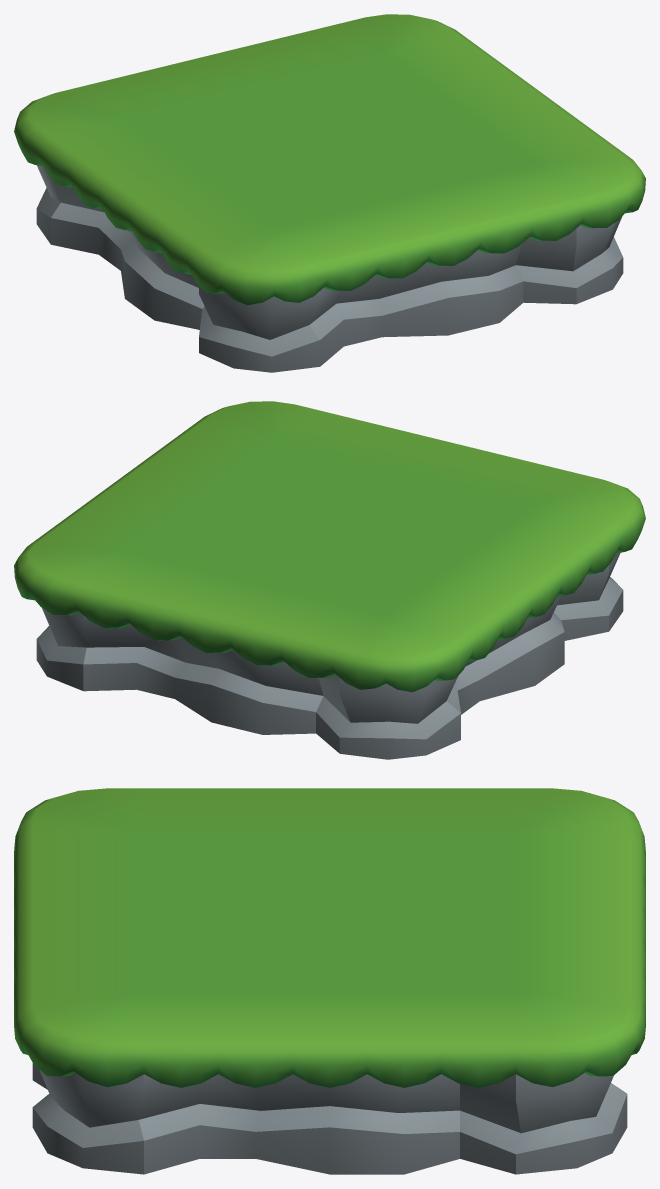
Rendered from Hill_8x8x2_Color1.gltf.
3 views of the same model, one above another, from view 1: azimuth 30°, elevation 25°; view 2: azimuth 150°, elevation 25°; view 3: azimuth 270°, elevation 25° (orthographic). The views are drawn at different scales.
Parts seen in each view (by area): view 1: Hill_8x8x2_Color1; view 2: Hill_8x8x2_Color1; view 3: Hill_8x8x2_Color1.
Boxes of the visible parts, x1,y1,x2,y2 form: Hill_8x8x2_Color1: (14,14,645,372); Hill_8x8x2_Color1: (14,401,645,759); Hill_8x8x2_Color1: (14,788,645,1174).
Bounding box in the file's own units: 8.5 × 2 × 8.5.
1 material, 1 textured.
